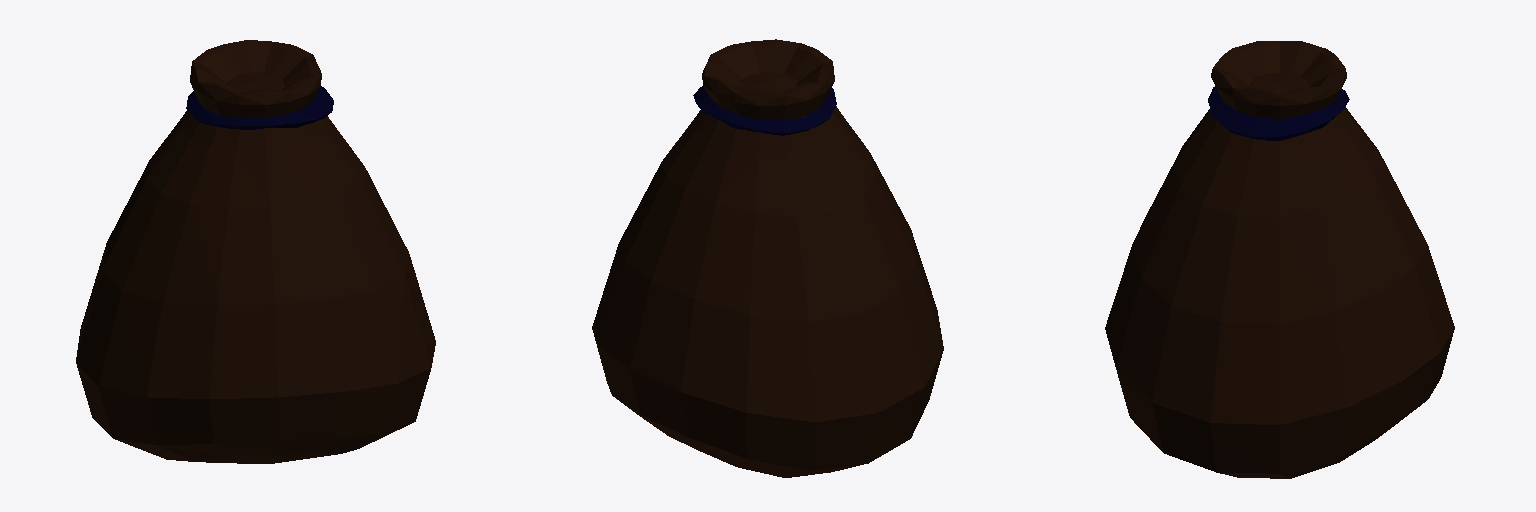
Rendered from Bag_Standing.obj.
3 views of the same model, side by side, from view 1: azimuth 30°, elevation 25°; view 2: azimuth 150°, elevation 25°; view 3: azimuth 270°, elevation 25° (orthographic).
Visible parts, largest first — view 1: Bag_Standing.001; view 2: Bag_Standing.001; view 3: Bag_Standing.001.
Part boxes in pixels (x1,y1,x2,y2): Bag_Standing.001: (76,40,435,463); Bag_Standing.001: (592,39,943,477); Bag_Standing.001: (1105,41,1454,478).
Size of the model in its own units: 0.2178 by 0.2527 by 0.2099.